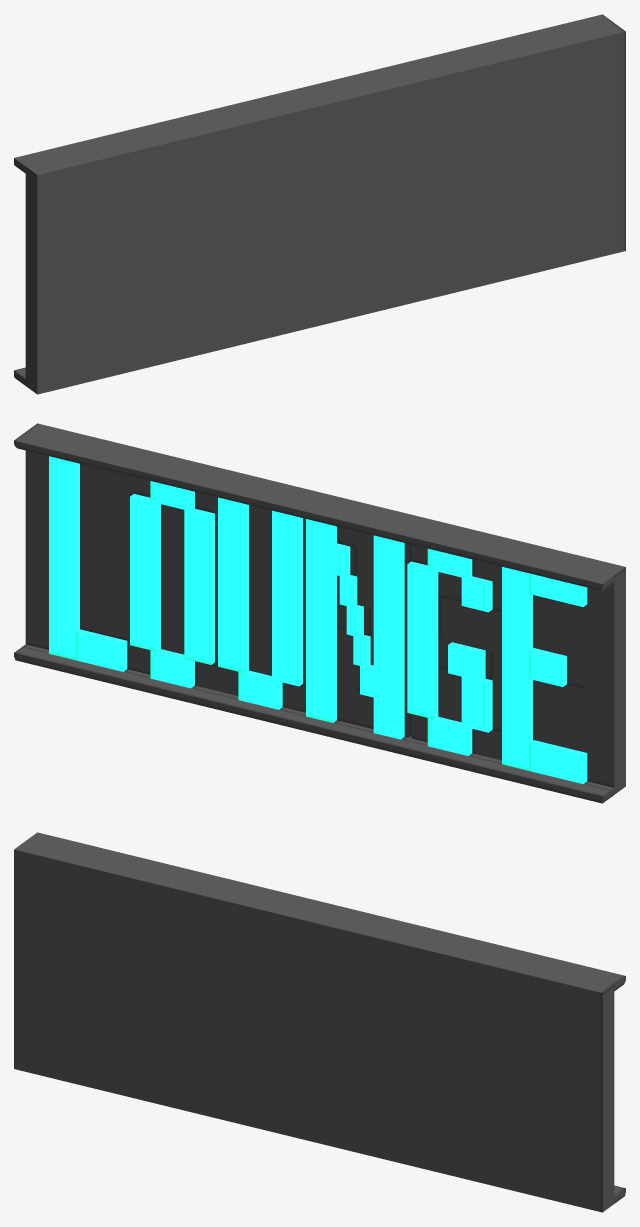
File: neon7.dae
3 views of the same model, one above another, from view 1: azimuth 30°, elevation 25°; view 2: azimuth 150°, elevation 25°; view 3: azimuth 330°, elevation 25° (orthographic).
Parts seen in each view (by area): view 1: Content; view 2: Content; view 3: Content.
Boxes of the visible parts, x1,y1,x2,y2 form: Content: (14, 14, 625, 394); Content: (14, 423, 625, 803); Content: (14, 832, 625, 1212).
Size of the model in its own units: 87 by 31 by 6.
Materials: 1 (1 with a texture image).
